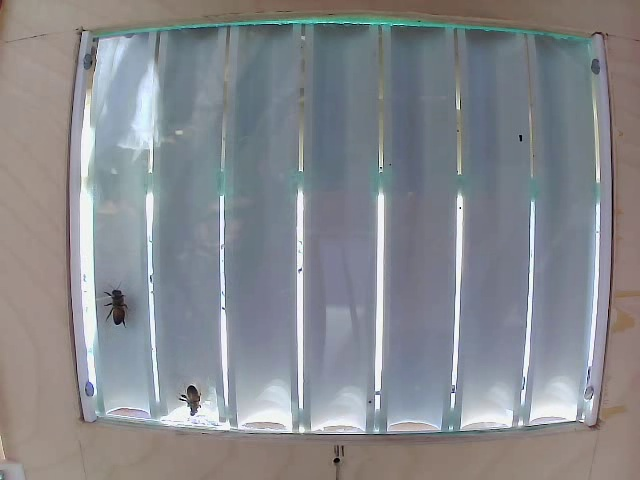bee: (108, 288, 136, 321)
